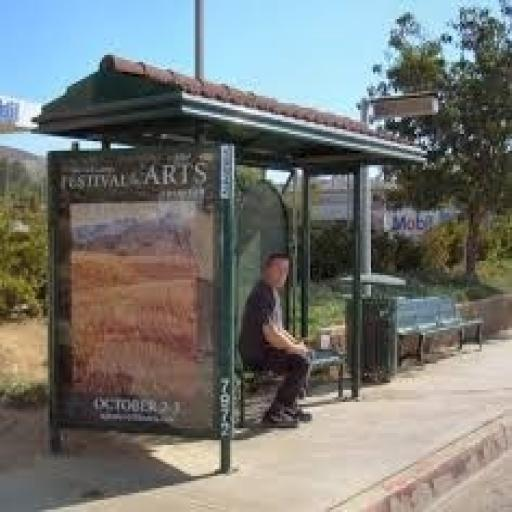sitting: (234, 246, 319, 428)
